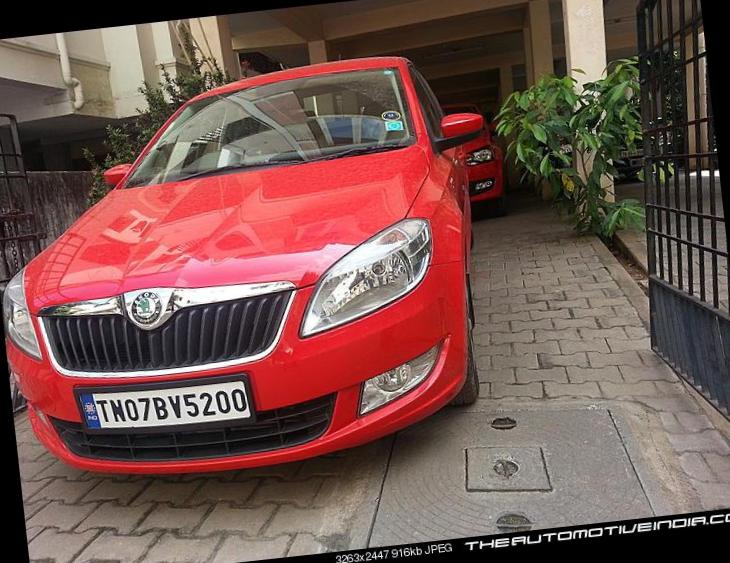plate: (55, 359, 277, 450)
